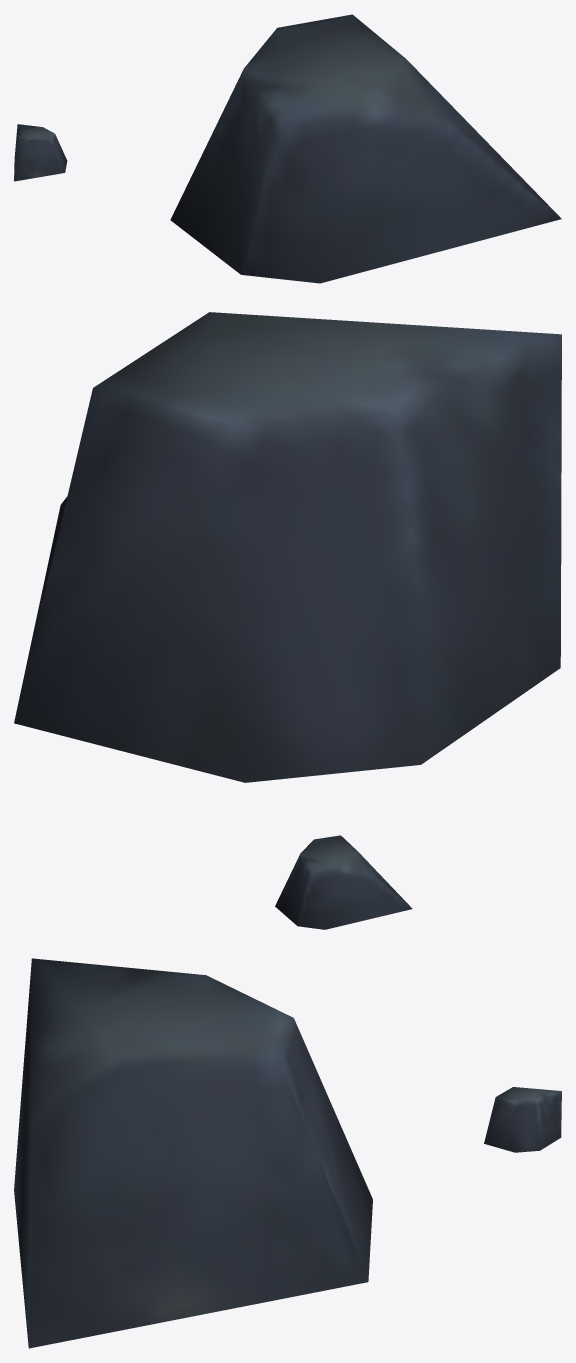
File: Area_04_12.fbx
3 renders of one model, top to bottom at view 1: azimuth 30°, elevation 25°; view 2: azimuth 150°, elevation 25°; view 3: azimuth 270°, elevation 25°, orthographic. The views are drawn at different scales.
Visible parts, largest first — view 1: Area_04_12; view 2: Area_04_12; view 3: Area_04_12.
Boxes of the visible parts, x1,y1,x2,y2 form: Area_04_12: (14, 14, 561, 283); Area_04_12: (14, 312, 561, 929); Area_04_12: (14, 958, 561, 1348).
Size of the model in its own units: 924 by 390 by 900.
